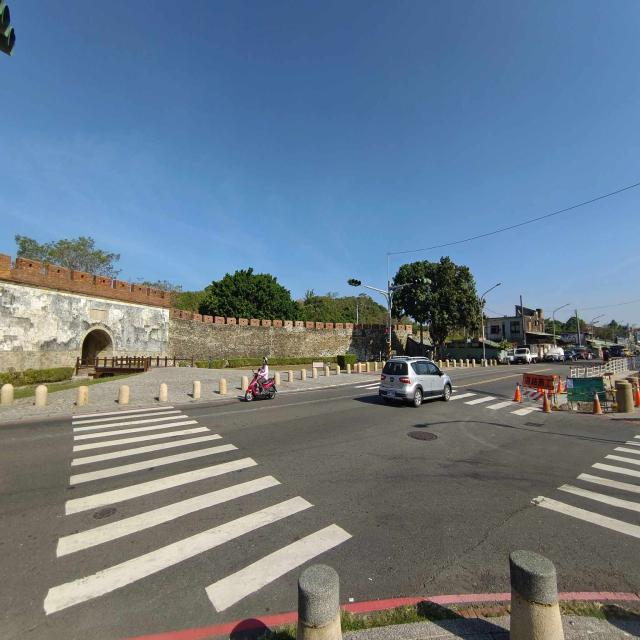person: (259, 357, 269, 382)
zebra crossing: (45, 402, 358, 615), (538, 427, 640, 541), (450, 389, 543, 416), (357, 374, 381, 391)
